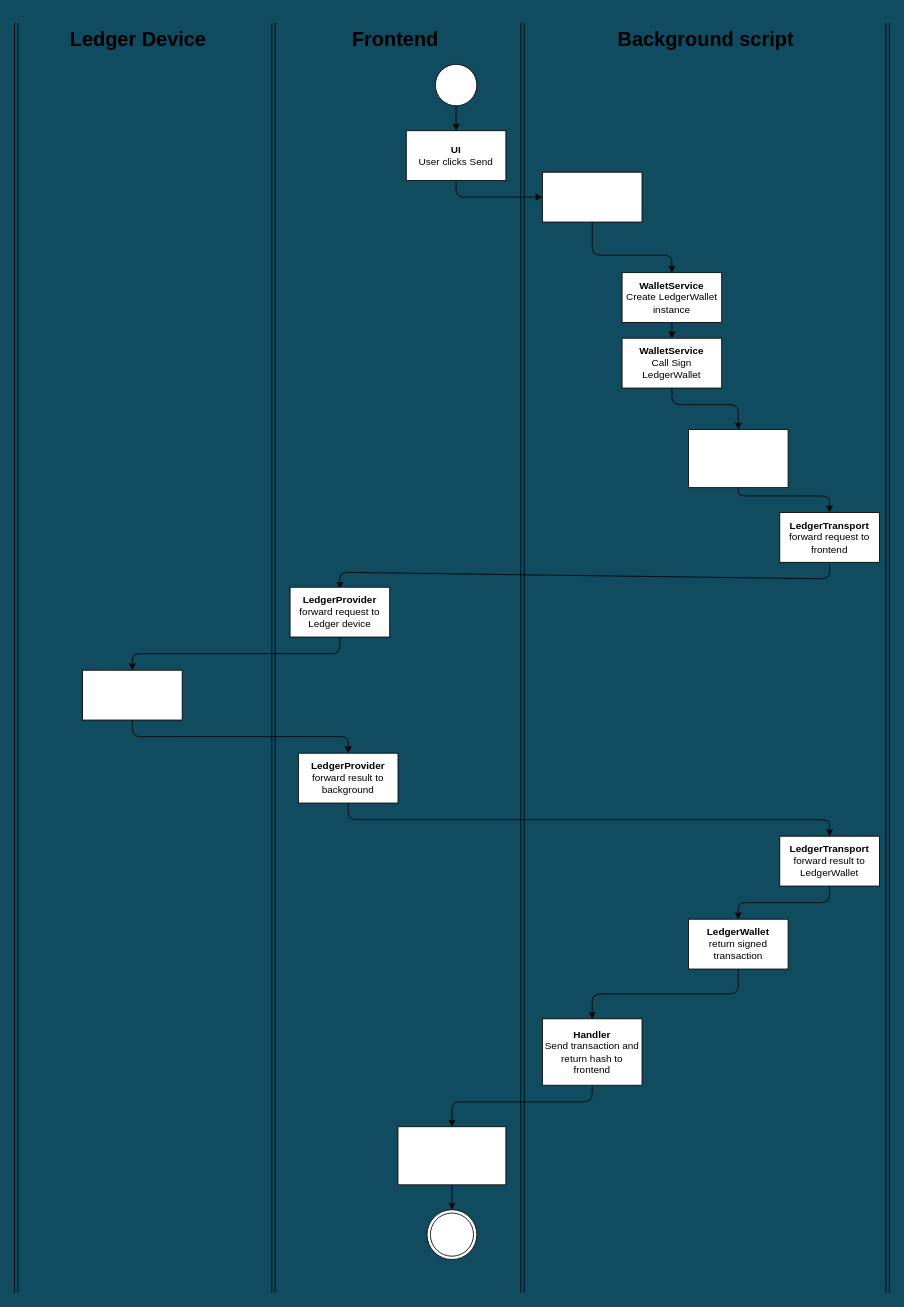
Image size: 904x1307. Some labels were removed from this diagram. The shapes that lost their labels are listed below. From the top down, each one's box as (x1, y1, x2, y2) in pixels, then its label:
(542, 171, 642, 222): Handler Assembe transaction and call Sign on WalletService
(688, 429, 788, 488): LedgerWallet Assemble transaction and send it through the transport
(82, 669, 182, 720): Sign Transaction
(397, 1126, 506, 1185): UI Display success message with TX hash
